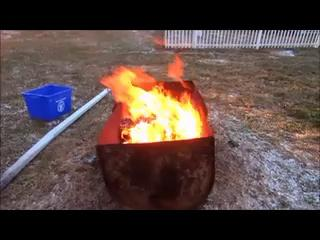Fire: (103, 59, 204, 142)
